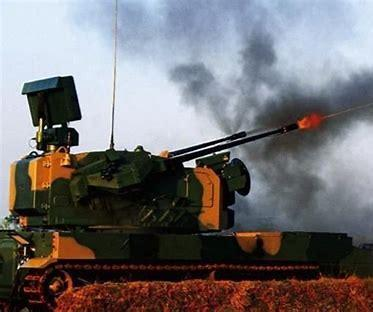MIL_SPG: (0, 76, 353, 311)
